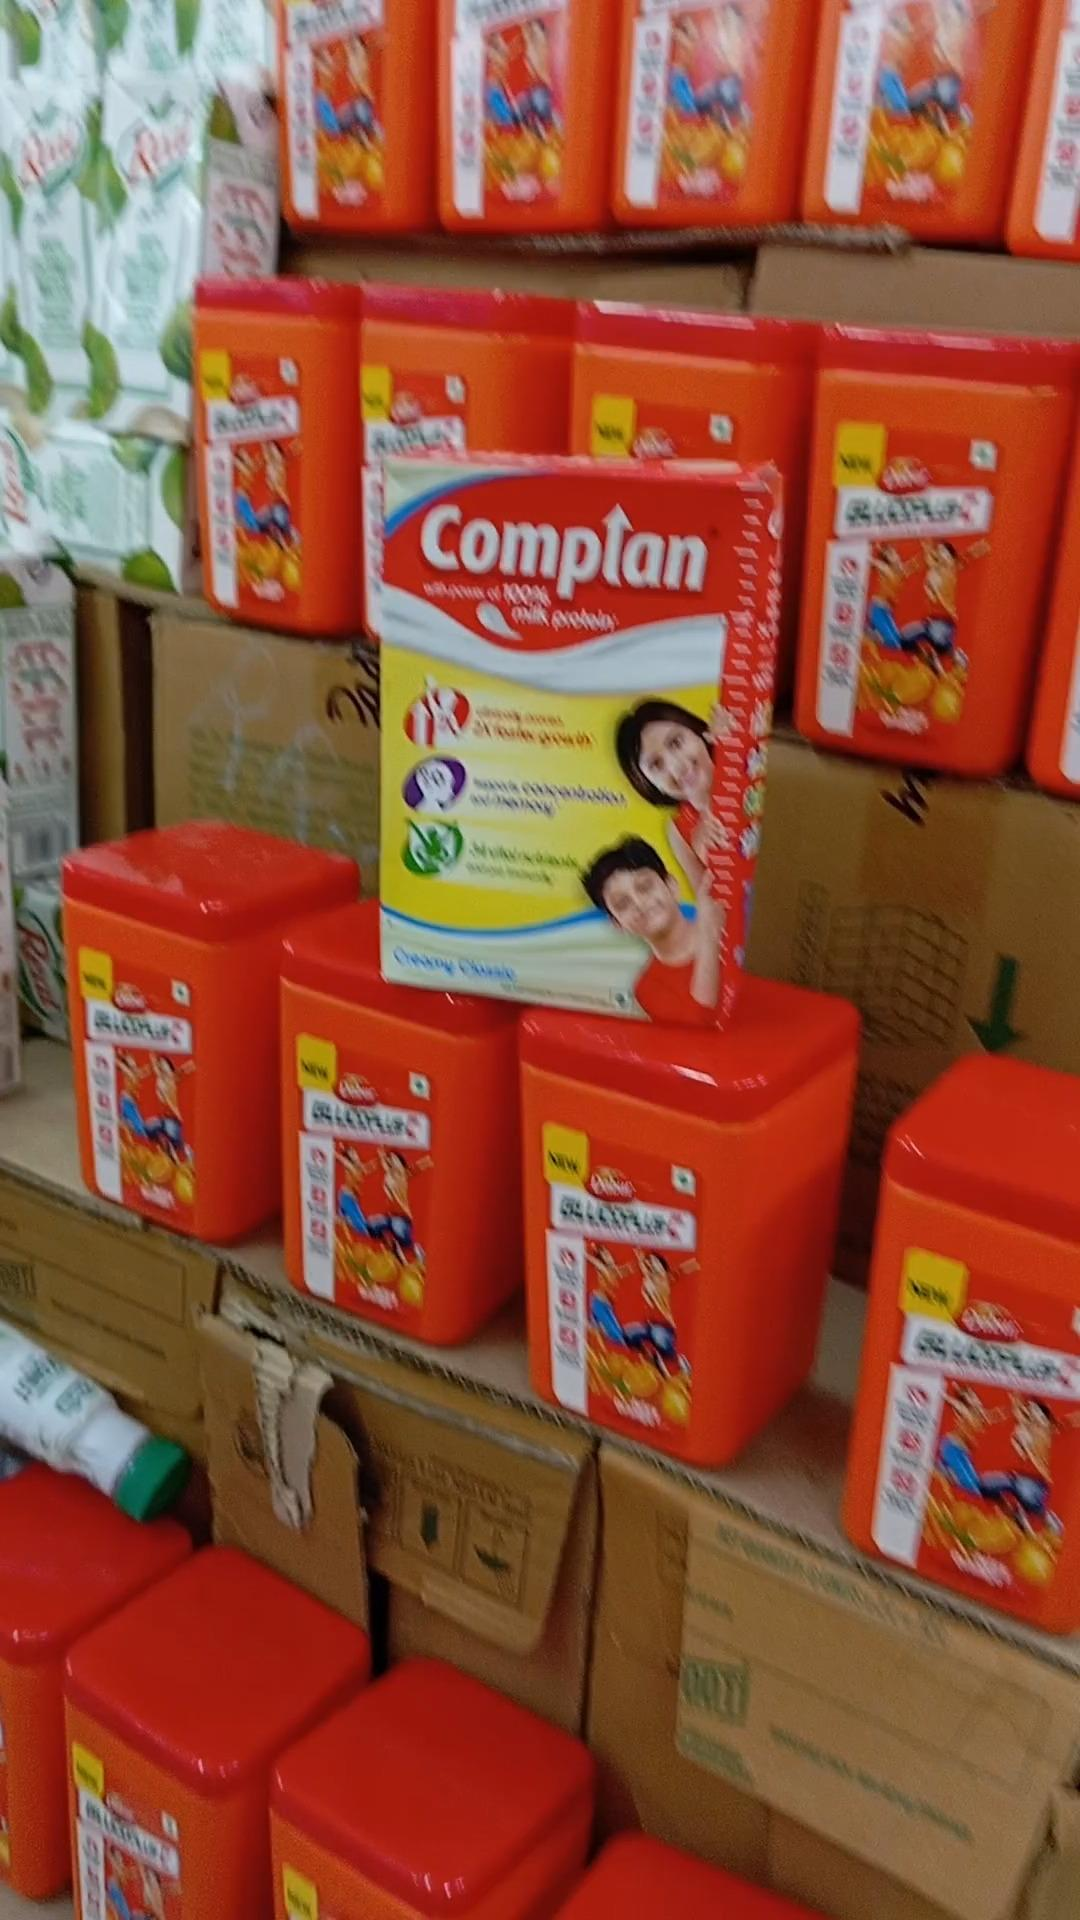COMPLAN_CREAMY_CLASSIC_500_G_PACK: (377, 455, 729, 1022)
